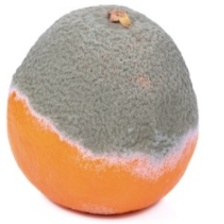orange: (37, 42, 217, 201)
